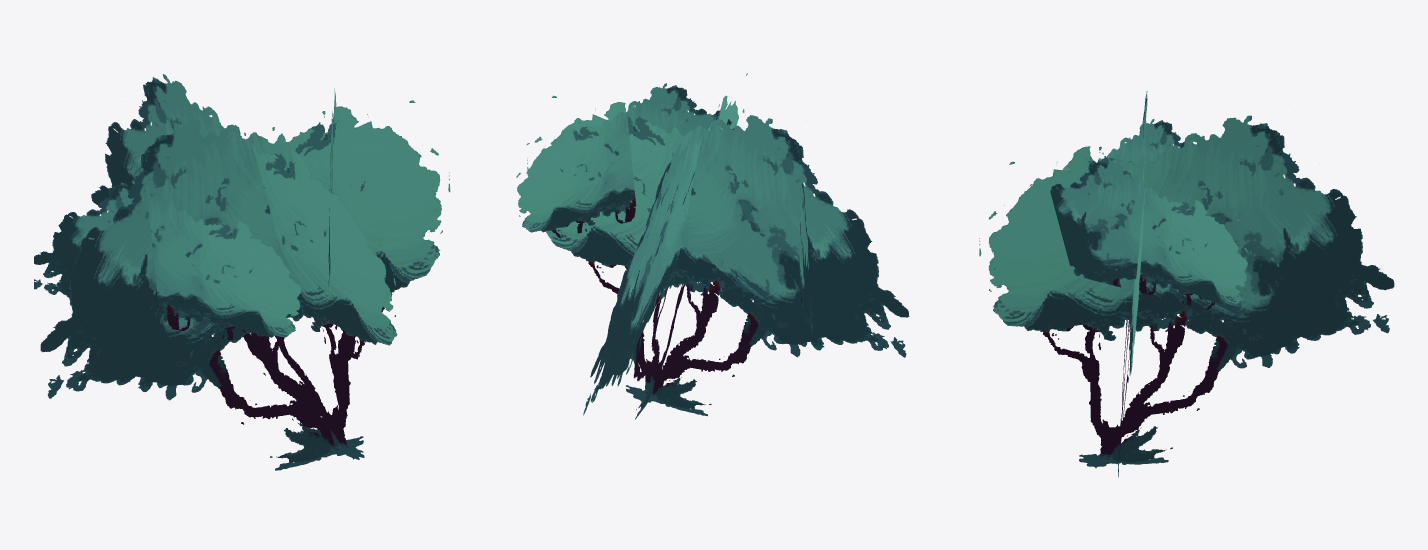
File: obj_plantBush.fbx
3 views of the same model, side by side, from view 1: azimuth 30°, elevation 25°; view 2: azimuth 150°, elevation 25°; view 3: azimuth 270°, elevation 25° (orthographic). The views are drawn at different scales.
Visible parts, largest first — view 1: obj_plantBush; view 2: obj_plantBush; view 3: obj_plantBush.
Boxes of the visible parts, x1=… form: obj_plantBush: x1=34, y1=74, x2=450, y2=470; obj_plantBush: x1=516, y1=73, x2=909, y2=419; obj_plantBush: x1=979, y1=91, x2=1394, y2=477.
Bounding box in the file's own units: 126 × 102 × 124.
Materials: 1 (1 with a texture image).
